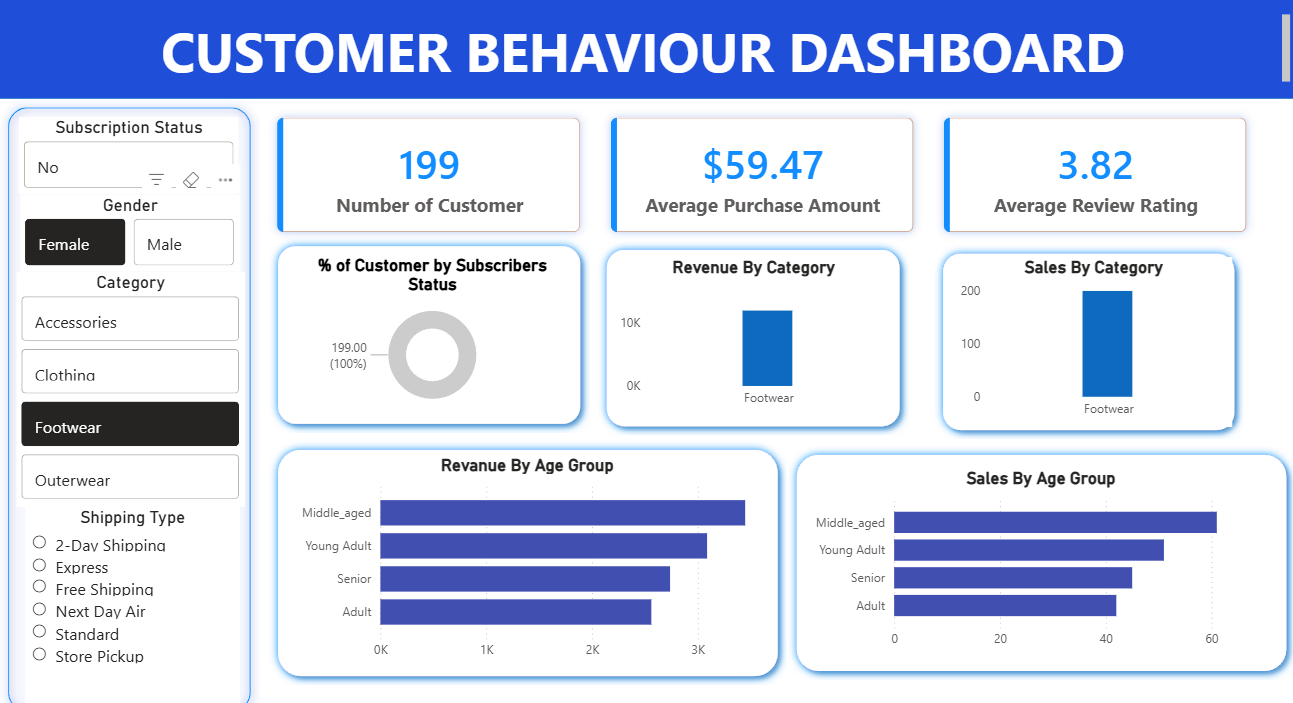

The dashboard page shown, as its layout file describes it:
{"tool":"powerbi","page":{"name":"Page 1","canvas":[1280,720],"ordinal":0},"visuals":[{"type":"cardVisual","fields":{"Data":["public customer.Number of Customer","public customer.Average Purchase Amount","public customer.Average Review Rating"]},"box":[247,96.1,1014.9,169.6],"z":0},{"type":"shape","box":[0,1.4,1280,104.3],"z":1000},{"type":"textbox","box":[0,17.1,1280,78.6],"z":2000},{"type":"shape","box":[267.1,241.7,316.5,193.6],"z":3000},{"type":"donutChart","title":"% of Customer by Subscribers Status","fields":{"Category":["public customer.subscription_status"],"Y":["CountNonNull(public customer.customer_id)"]},"box":[300.5,259.1,256.4,160.2],"z":4000},{"type":"shape","box":[591.6,245.7,307.1,192.3],"z":5000},{"type":"shape","box":[924.1,249.7,305.8,192.3],"z":6000},{"type":"clusteredColumnChart","title":"Revanue By Category","fields":{"Y":["Sum(public customer.purchase_amount)"],"Category":["public customer.category"]},"box":[608.9,261.7,273.7,157.6],"z":7000},{"type":"clusteredColumnChart","title":"Sales By Category","fields":{"Category":["public customer.category"],"Y":["CountNonNull(public customer.customer_id)"]},"box":[944.1,261.7,273.7,168.3],"z":8000},{"type":"shape","box":[0,105,257.5,615],"z":9000},{"type":"advancedSlicerVisual","title":"Subscription Status","fields":{"Values":["public customer.subscription_status"]},"box":[20,122.9,217.1,75.7],"z":10000},{"type":"advancedSlicerVisual","title":"Gender","fields":{"Values":["public customer.gender"]},"box":[17.1,198.6,225.7,77.1],"z":11000},{"type":"advancedSlicerVisual","title":"Category","fields":{"Values":["public customer.category"]},"box":[17.1,274.3,225.7,234.3],"z":12000},{"type":"listSlicer","title":"Shipping Type","fields":{"Values":["public customer.shipping_type"]},"box":[25.7,508.6,211.4,211.4],"z":13000},{"type":"shape","box":[267.1,442.9,511.4,241.4],"z":15000},{"type":"clusteredBarChart","title":"Revanue By Age Group","fields":{"Y":["Sum(public customer.purchase_amount)"],"Category":["public customer.age_group"]},"box":[288.6,457.1,465.7,211.4],"z":15001},{"type":"shape","box":[778.6,448.6,501.4,231.4],"z":15002},{"type":"clusteredBarChart","title":"Sales By Age Group","fields":{"Y":["CountNonNull(public customer.customer_id)"],"Category":["public customer.age_group"]},"box":[795.7,470,465.7,187.1],"z":15003}]}

Visuals, with their boxes in screenshot pixels (x1, y1, x2, y2):
cardVisual - public customer.Number of Customer x public customer.Average Purchase Amount: BBox(250, 93, 1264, 262)
shape: BBox(3, 0, 1283, 102)
textbox: BBox(3, 14, 1283, 92)
shape: BBox(270, 238, 587, 432)
"% of Customer by Subscribers Status" donutChart: BBox(304, 256, 560, 416)
shape: BBox(595, 242, 901, 434)
shape: BBox(927, 246, 1232, 438)
"Revanue By Category" clusteredColumnChart: BBox(612, 258, 885, 416)
"Sales By Category" clusteredColumnChart: BBox(947, 258, 1220, 426)
shape: BBox(3, 102, 261, 702)
"Subscription Status" advancedSlicerVisual: BBox(23, 119, 240, 195)
"Gender" advancedSlicerVisual: BBox(20, 195, 246, 272)
"Category" advancedSlicerVisual: BBox(20, 271, 246, 505)
"Shipping Type" listSlicer: BBox(29, 505, 240, 702)
shape: BBox(270, 439, 781, 680)
"Revanue By Age Group" clusteredBarChart: BBox(292, 453, 757, 665)
shape: BBox(781, 445, 1283, 676)
"Sales By Age Group" clusteredBarChart: BBox(799, 466, 1264, 653)
